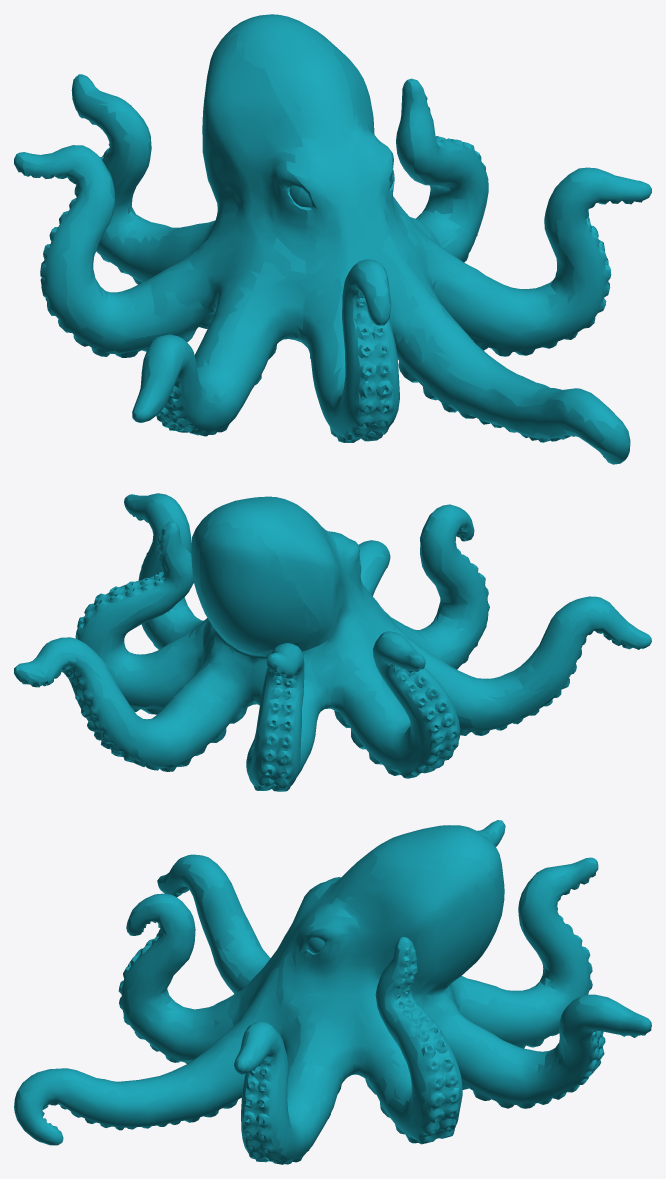
3 renders of one model, top to bottom at view 1: azimuth 30°, elevation 25°; view 2: azimuth 150°, elevation 25°; view 3: azimuth 270°, elevation 25°, orthographic. The views are drawn at different scales.
Visible parts, largest first — view 1: Group24148_default_0; view 2: Group24148_default_0; view 3: Group24148_default_0.
Boxes of the visible parts, x1=… form: Group24148_default_0: x1=14, y1=14, x2=651, y2=464; Group24148_default_0: x1=14, y1=493, x2=651, y2=791; Group24148_default_0: x1=14, y1=820, x2=651, y2=1164.
Bounding box in the file's own units: 3.9 × 2 × 4.36.
